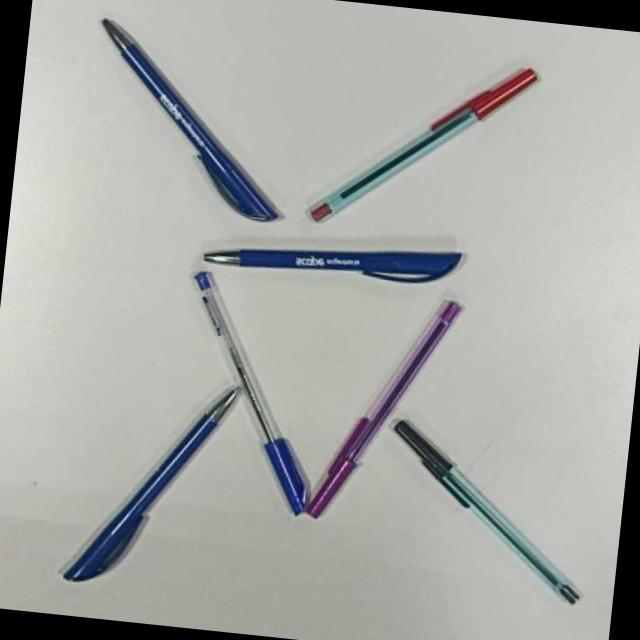caneta: (92, 7, 278, 237), (61, 384, 254, 596), (304, 62, 540, 228), (389, 416, 583, 608), (300, 296, 461, 522), (189, 267, 315, 516), (202, 248, 462, 284)
